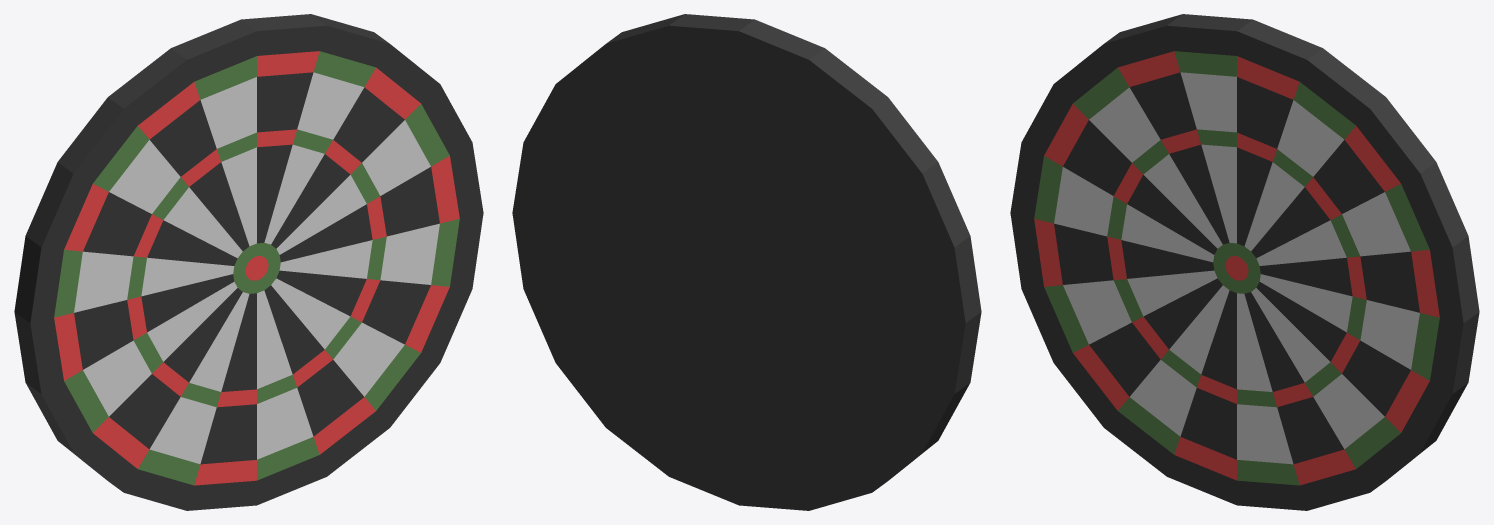
The model's file is Darts_dra.glb.
3 views of the same model, side by side, from view 1: azimuth 30°, elevation 25°; view 2: azimuth 150°, elevation 25°; view 3: azimuth 330°, elevation 25° (orthographic).
Parts seen in each view (by area): view 1: Darts; view 2: Darts; view 3: Darts.
Boxes of the visible parts, x1,y1,x2,y2 form: Darts: [14, 14, 483, 510]; Darts: [512, 14, 981, 510]; Darts: [1010, 14, 1479, 510].
Bounding box in the file's own units: 0.5532 × 0.5532 × 0.0338.
1 material, 1 textured.
